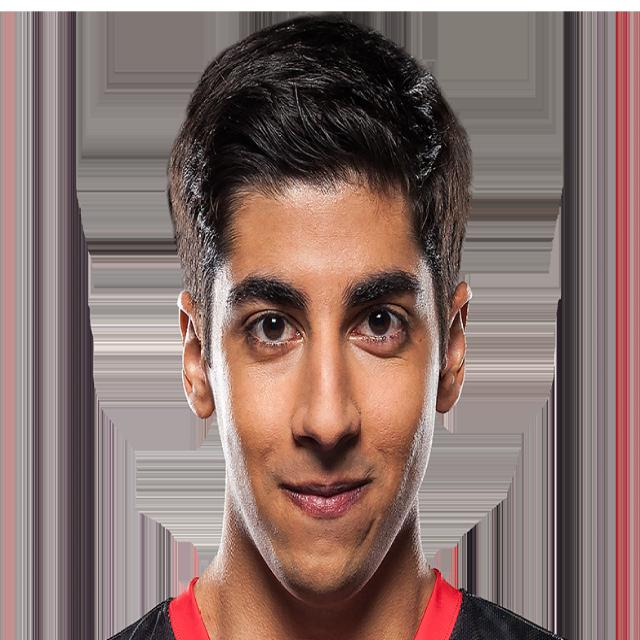sem_oculos: (173, 271, 479, 382)
